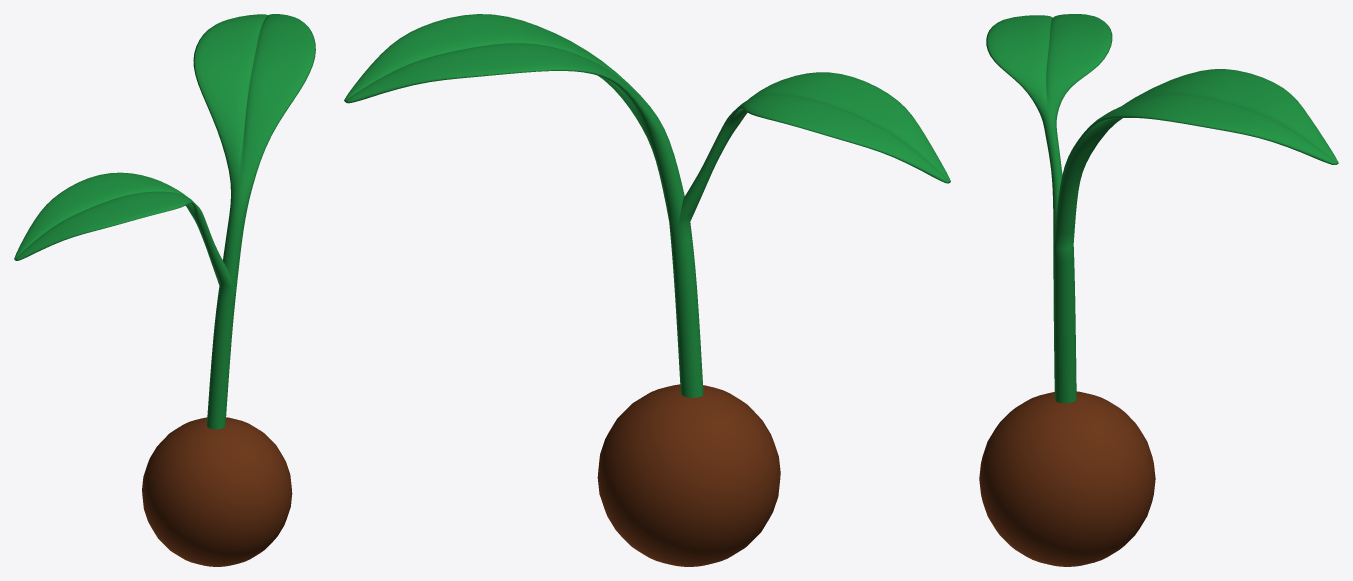
Rendered from CarrotStage02.fbx.
3 views of the same model, side by side, from view 1: azimuth 30°, elevation 25°; view 2: azimuth 150°, elevation 25°; view 3: azimuth 270°, elevation 25° (orthographic). The views are drawn at different scales.
Visible parts, largest first — view 1: Plane.001, Sphere; view 2: Plane.001, Sphere; view 3: Plane.001, Sphere.
Boxes of the visible parts, box(x1,y1,x2,y2) form: Plane.001: box(14, 14, 315, 429); Sphere: box(142, 417, 292, 566); Plane.001: box(344, 14, 950, 397); Sphere: box(597, 384, 780, 566); Plane.001: box(986, 14, 1338, 403); Sphere: box(979, 391, 1155, 566).
Size of the model in its own units: 82.49 by 93.28 by 58.13.
